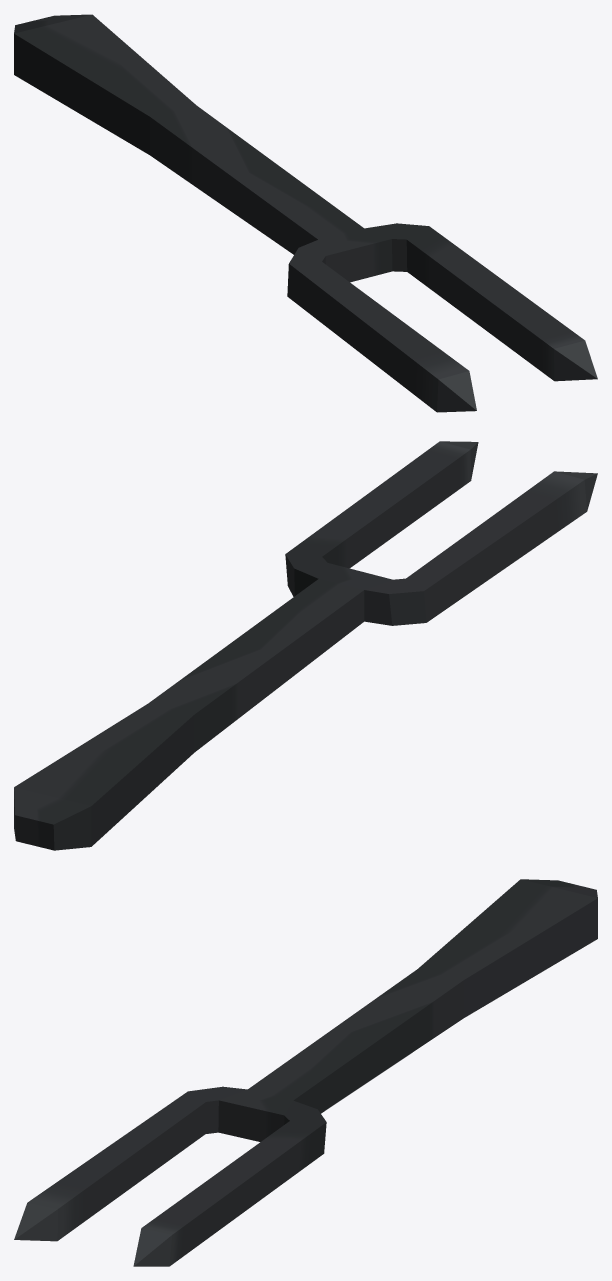
File: SM_Prop_Fork_01.fbx
3 views of the same model, one above another, from view 1: azimuth 30°, elevation 25°; view 2: azimuth 150°, elevation 25°; view 3: azimuth 330°, elevation 25° (orthographic).
Parts seen in each view (by area): view 1: SM_Prop_Fork_01; view 2: SM_Prop_Fork_01; view 3: SM_Prop_Fork_01.
Boxes of the visible parts, bbox=[...] form: SM_Prop_Fork_01: bbox=[14, 14, 597, 412]; SM_Prop_Fork_01: bbox=[14, 441, 597, 850]; SM_Prop_Fork_01: bbox=[14, 879, 597, 1266].
Bounding box in the file's own units: 6.53 × 1.93 × 38.44.
